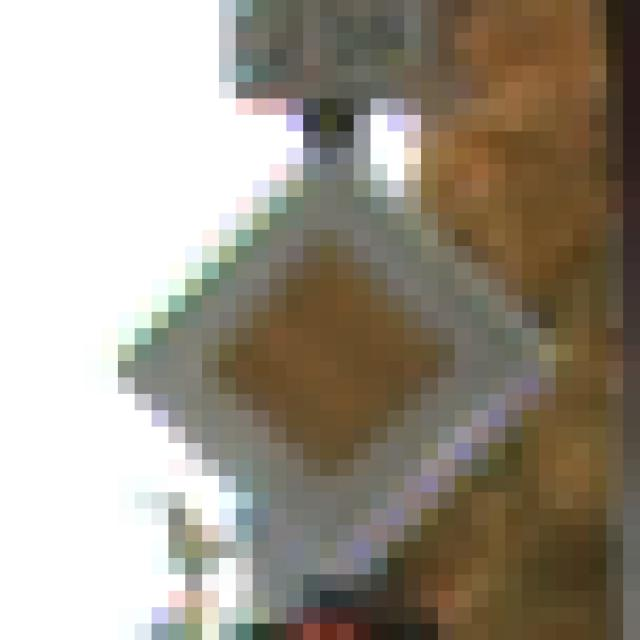Main Road: (102, 100, 557, 543)
